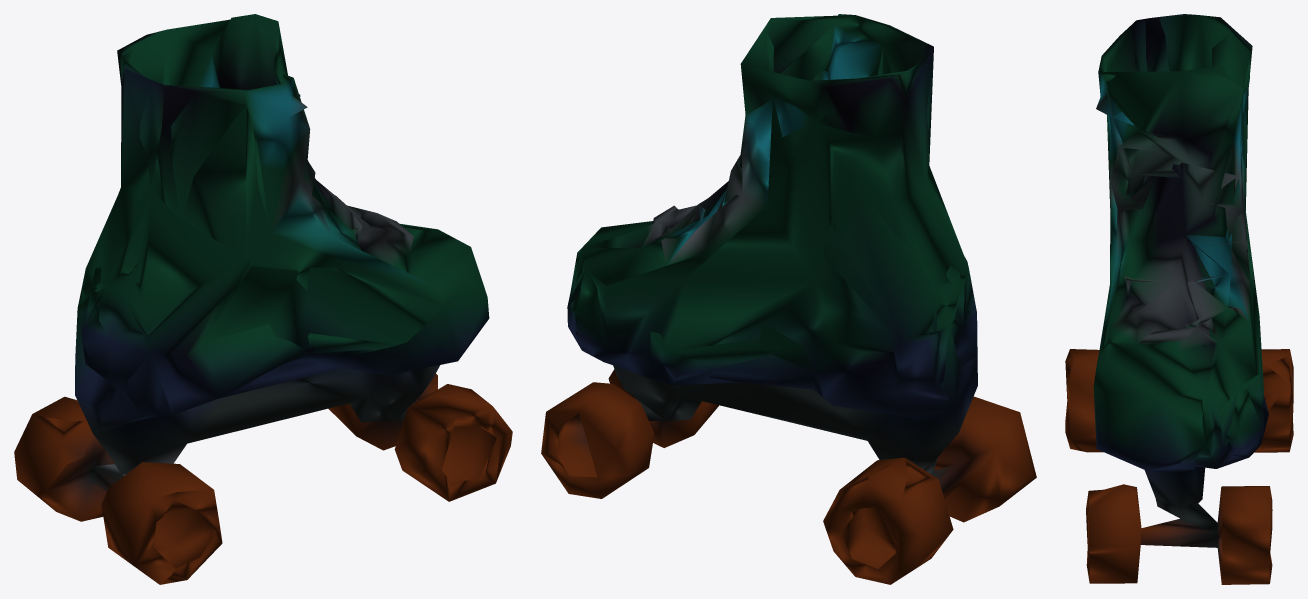
Rendered from gen3d-roller-skate-lod1.glb.
3 views of the same model, side by side, from view 1: azimuth 30°, elevation 25°; view 2: azimuth 150°, elevation 25°; view 3: azimuth 270°, elevation 25° (orthographic). The views are drawn at different scales.
Visible parts, largest first — view 1: part_0; view 2: part_0; view 3: part_0.
Boxes of the visible parts, x1,y1,x2,y2 form: part_0: [14, 14, 512, 584]; part_0: [541, 14, 1036, 584]; part_0: [1065, 14, 1293, 584].
Bounding box in the file's own units: 0.8633 × 0.9956 × 0.46.
